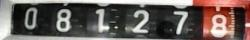digits: (131, 9, 149, 33), (209, 14, 227, 37), (55, 8, 71, 32), (173, 11, 188, 34), (95, 8, 109, 32), (24, 7, 38, 29)
